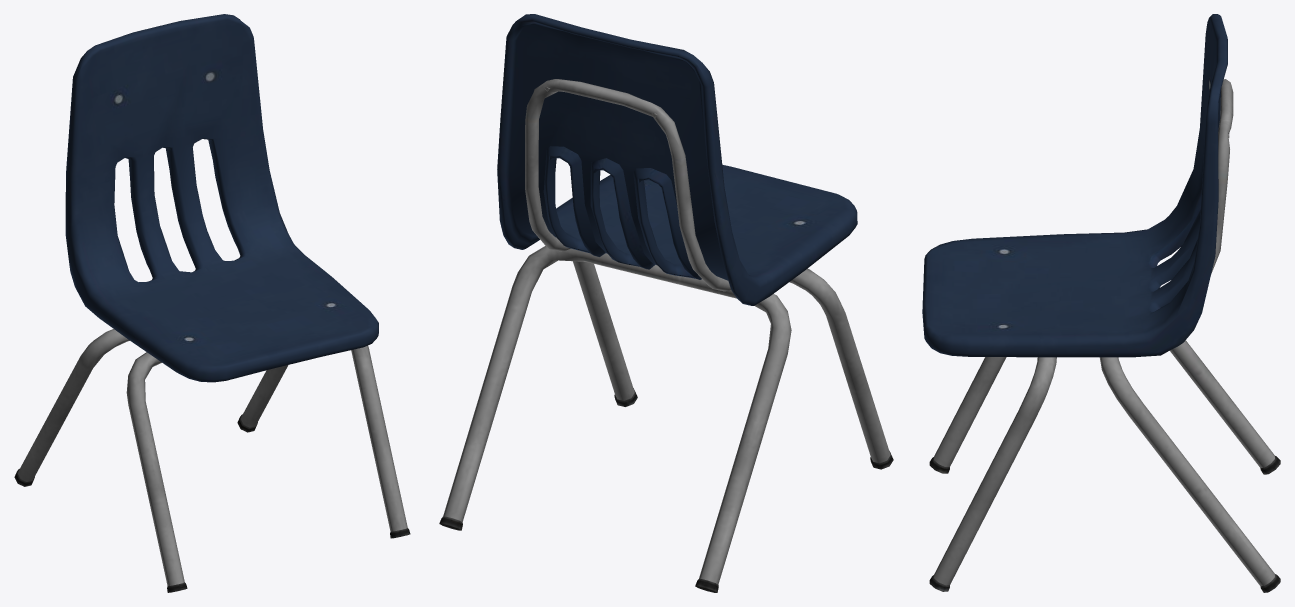
File: chair.glb
3 views of the same model, side by side, from view 1: azimuth 30°, elevation 25°; view 2: azimuth 150°, elevation 25°; view 3: azimuth 270°, elevation 25° (orthographic). The views are drawn at different scales.
Bounding box in the file's own units: 0.5659 × 1.01 × 0.6752.
Materials: 1 (1 with a texture image).
